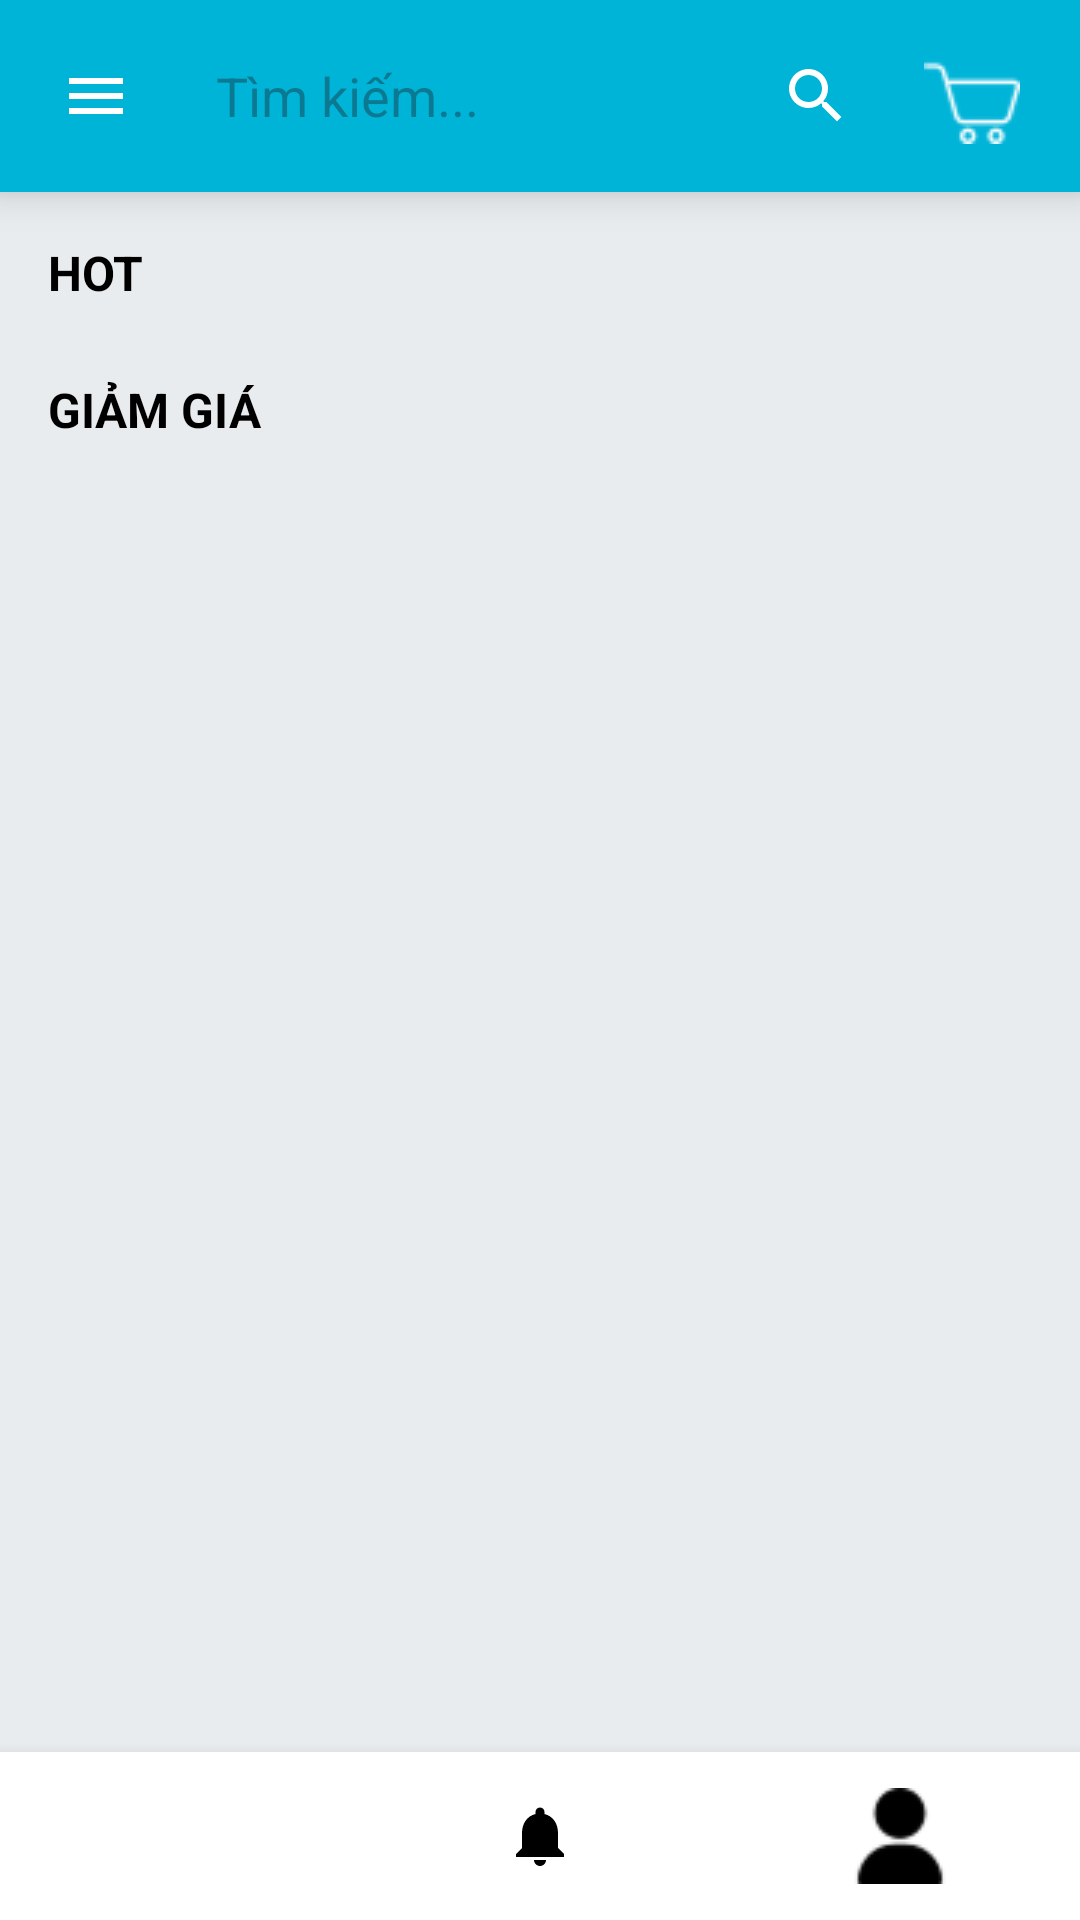

Named icons in this screenshot (1080px×1920px) and their bounding boxes, (x1, y1, x2, y2):
cart: (924, 62, 1020, 144)
menu: (69, 78, 123, 114)
notifications: (516, 1807, 564, 1866)
person: (857, 1788, 943, 1884)
search: (789, 69, 841, 121)
